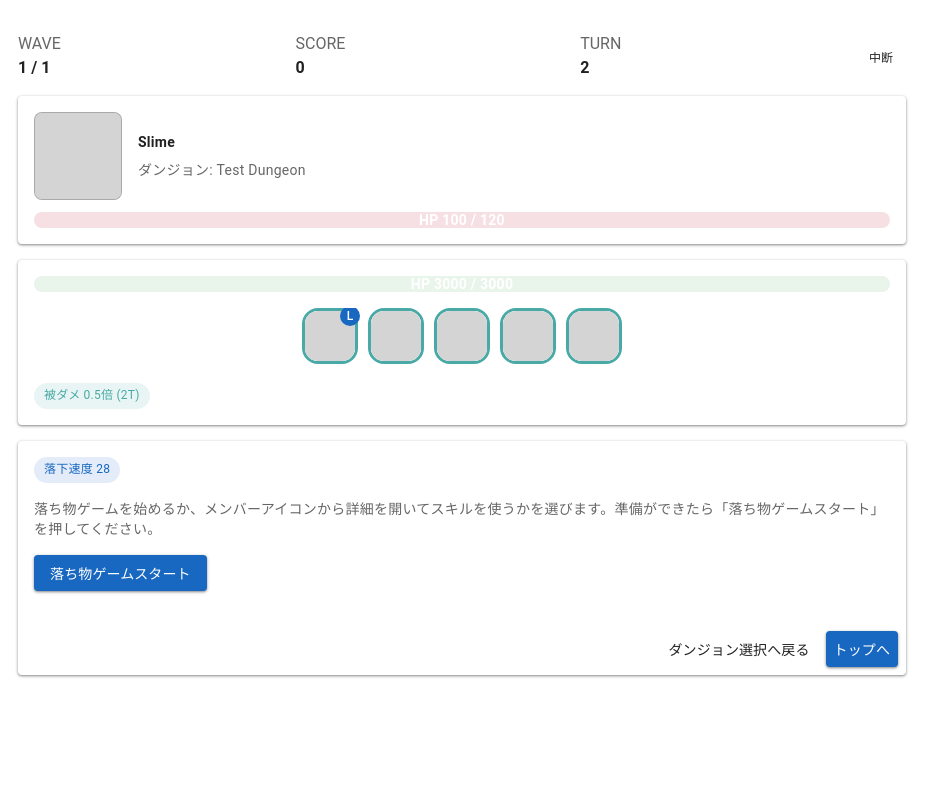
Test: BattleView › 最後の敵を倒したらダンジョンクリア表示に切り替わる
Click the button "落ち物ゲームスタート" at coordinates (120, 573), box x1=34 y1=555 x2=207 y2=591
(page scrolled)
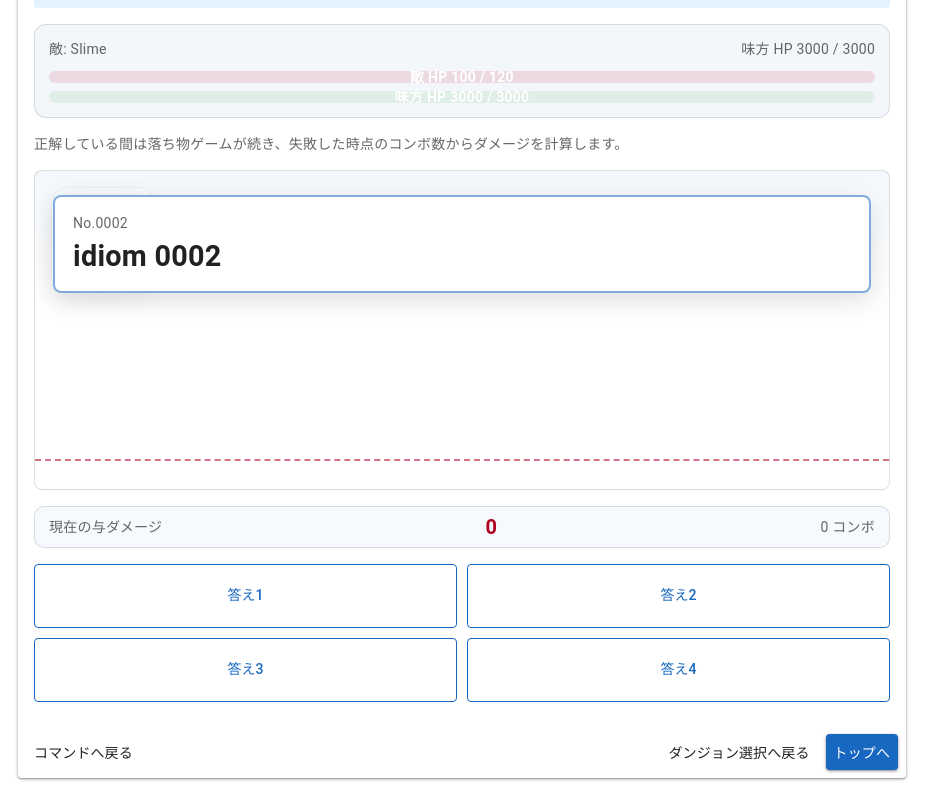
Click the button "答え1" at coordinates (246, 596), box x1=34 y1=564 x2=457 y2=628
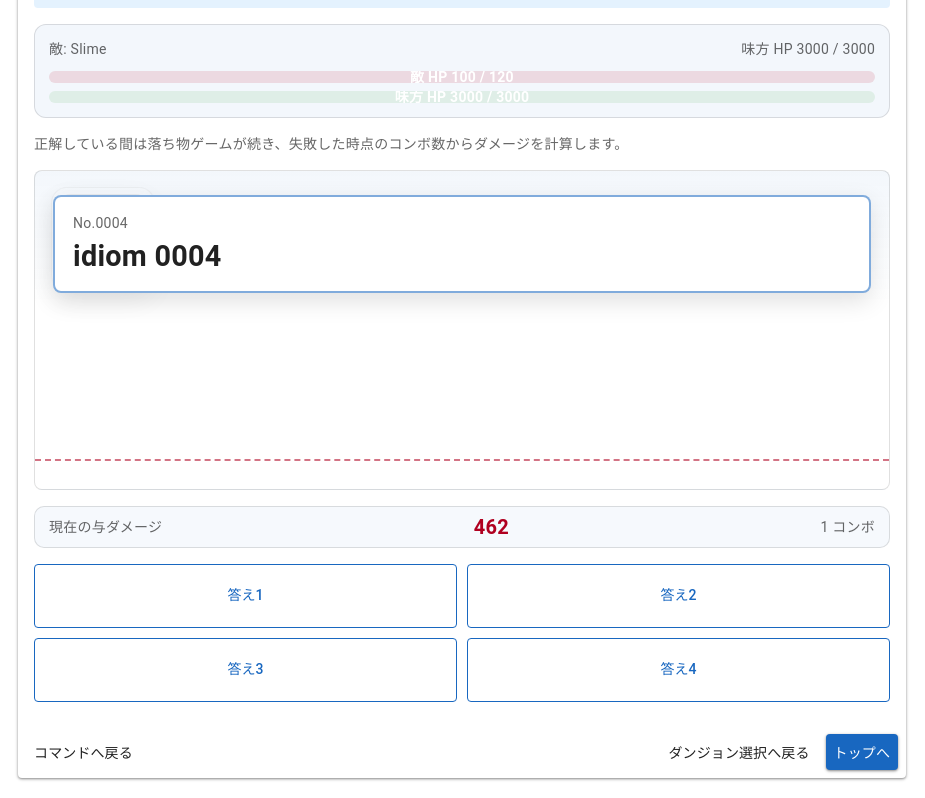
Click the button "答え1" at coordinates (246, 596), box x1=34 y1=564 x2=457 y2=628
(page scrolled)
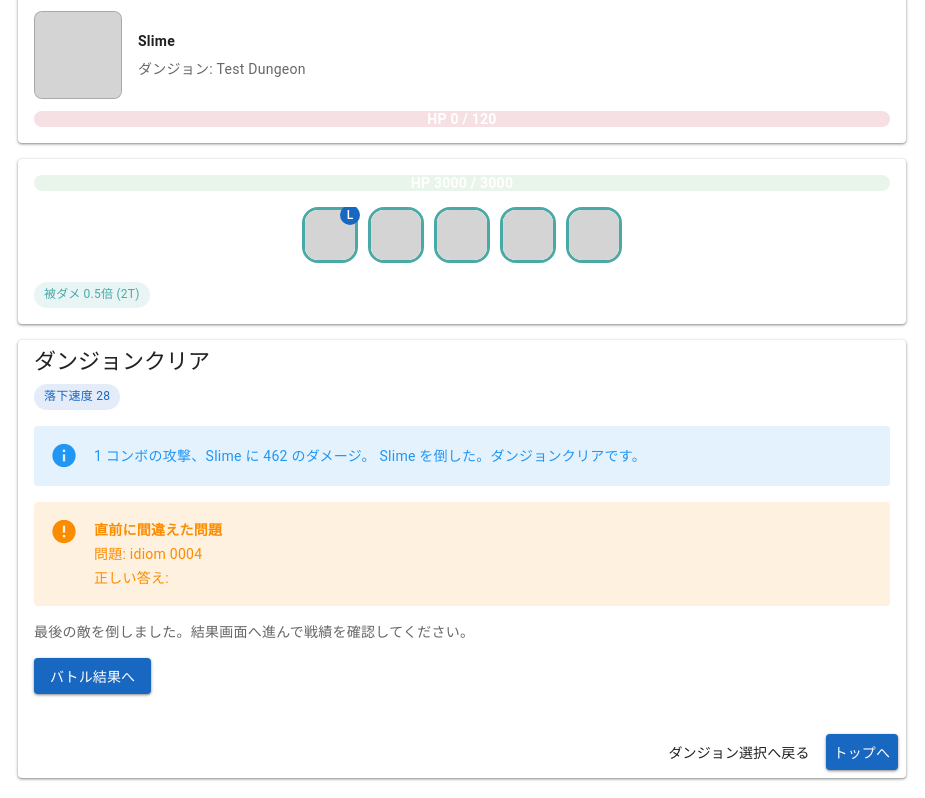
Expected: the text "1 コンボの攻撃、Slime に 462 のダメージ。 Slime を倒した。ダンジョンクリアです。" is shown, x1=94 y1=448 x2=646 y2=464
Expected: the text "ダンジョンクリア" is shown, x1=34 y1=349 x2=210 y2=374
Expected: the text "バトル結果へ" is shown, x1=50 y1=666 x2=135 y2=686
